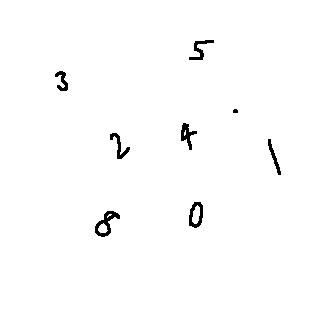.: (225, 102, 244, 119)
0: (183, 197, 212, 233)
1: (263, 131, 292, 182)
2: (101, 129, 138, 166)
3: (52, 68, 74, 100)
4: (173, 121, 204, 154)
5: (184, 34, 220, 64)
8: (90, 206, 126, 241)
